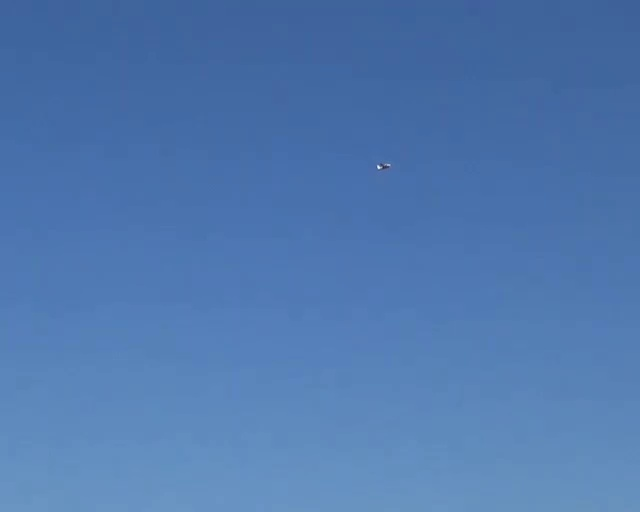AIRPLANE: (376, 162, 391, 170)
